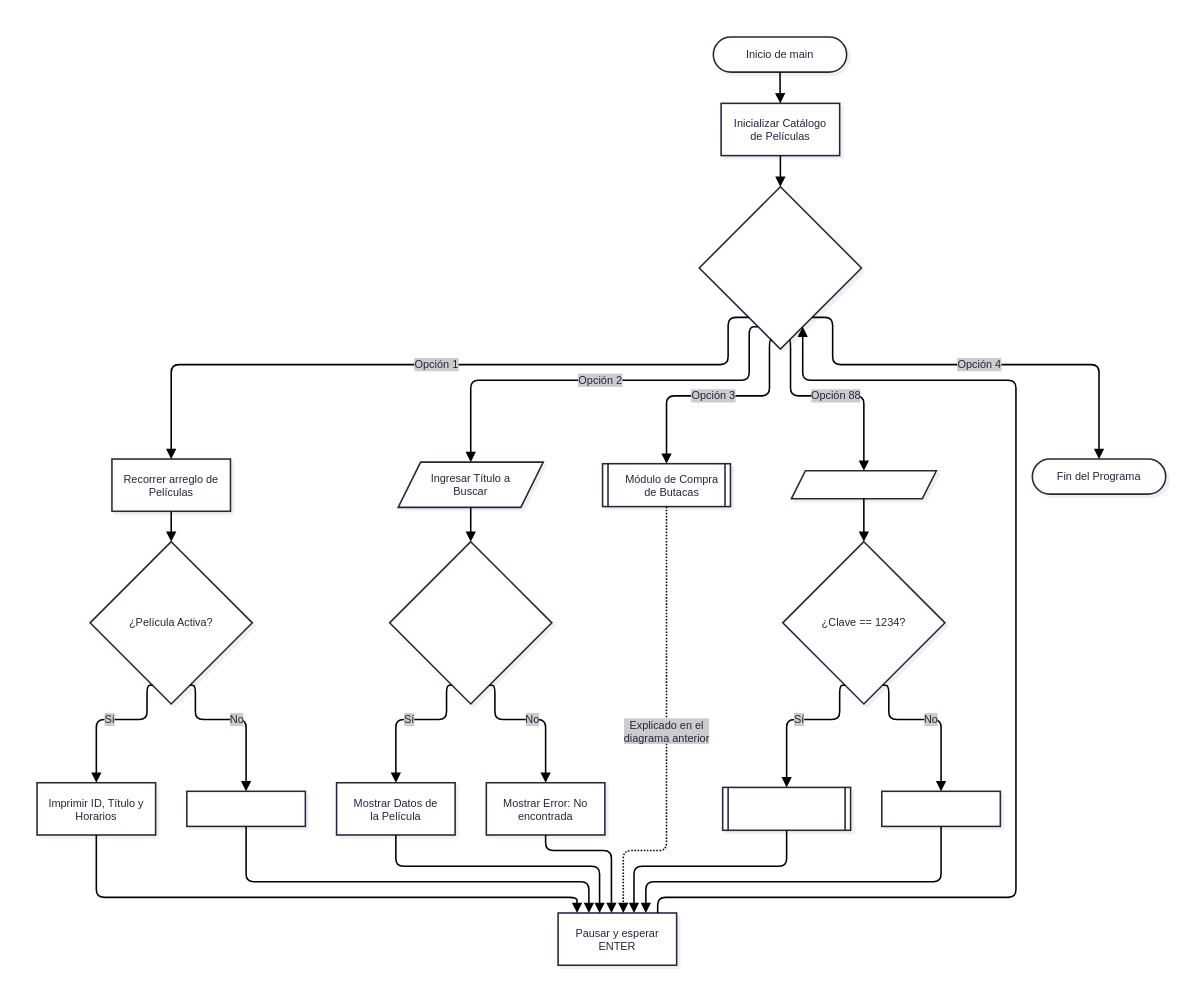
Some shapes in this 1182 by 982 pixel diagram are drawn without their labels. Here are the shapes that lost their labels. From the top down, the centre of each, then its label:
At [781,269]: "¿Qué opción elige el usuario?".
At [865,486]: "Ingresar Clave".
At [471,624]: "¿Existe en catálogo y está activa?".
At [247,810]: "Omitir".
At [788,810]: "Módulo: Panel de Administración".
At [942,810]: "Acceso Denegado".
